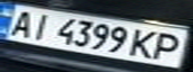3: (69, 18, 93, 50)
4: (48, 16, 78, 46)
9: (106, 24, 133, 56), (87, 20, 112, 52)
A: (0, 7, 39, 38)
I: (24, 11, 57, 42)
K: (127, 27, 163, 61)
P: (145, 30, 190, 62)
